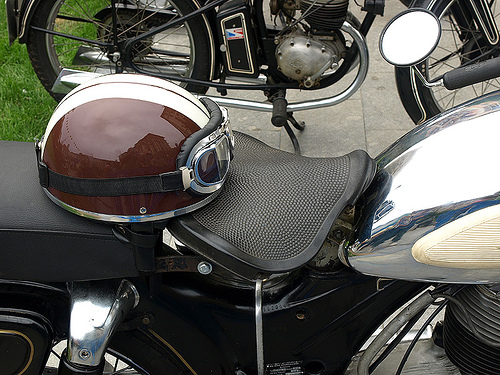helmet: (43, 81, 237, 224)
